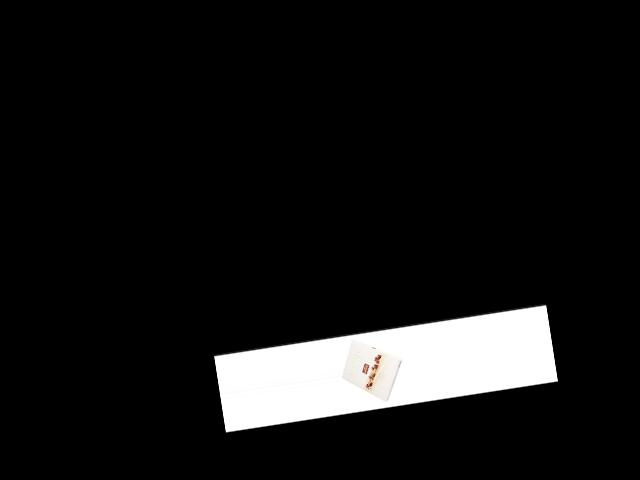chocolate: (337, 332, 410, 412)
